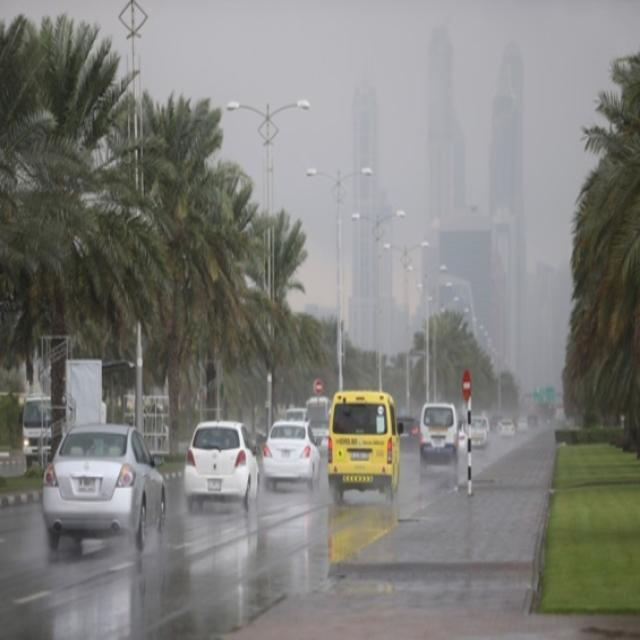bus: (19, 366, 105, 454)
car: (41, 423, 165, 554), (327, 394, 397, 501), (185, 422, 261, 508), (262, 424, 320, 489), (417, 404, 460, 463), (394, 415, 420, 452), (467, 415, 492, 447), (498, 418, 517, 436)
